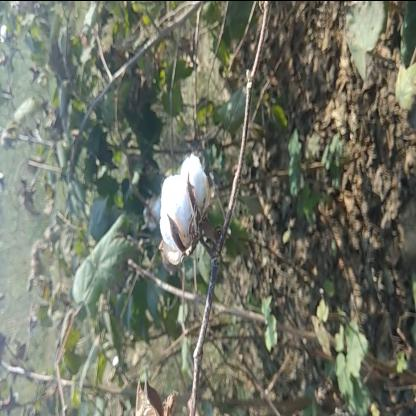cotton_ready: (150, 152, 230, 270)
